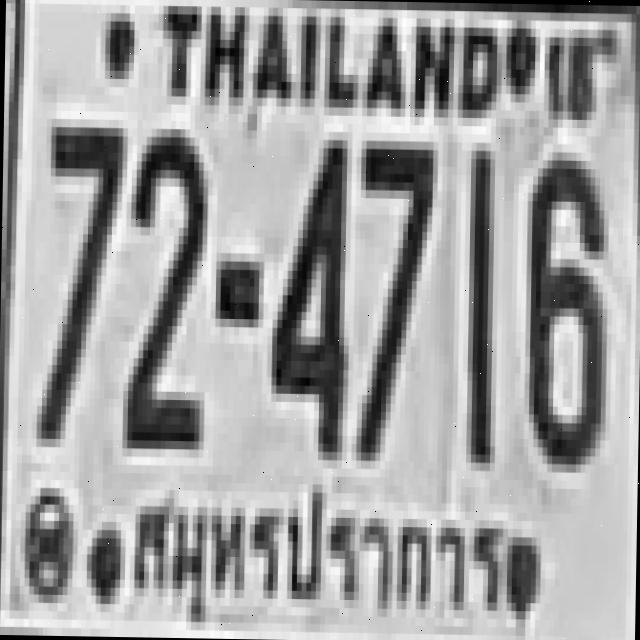1: (461, 146, 490, 458)
2: (122, 120, 204, 441)
4: (265, 126, 347, 448)
6: (523, 152, 605, 456)
7: (36, 118, 123, 440), (352, 140, 428, 453)
SamutPrakan: (124, 474, 506, 636)
